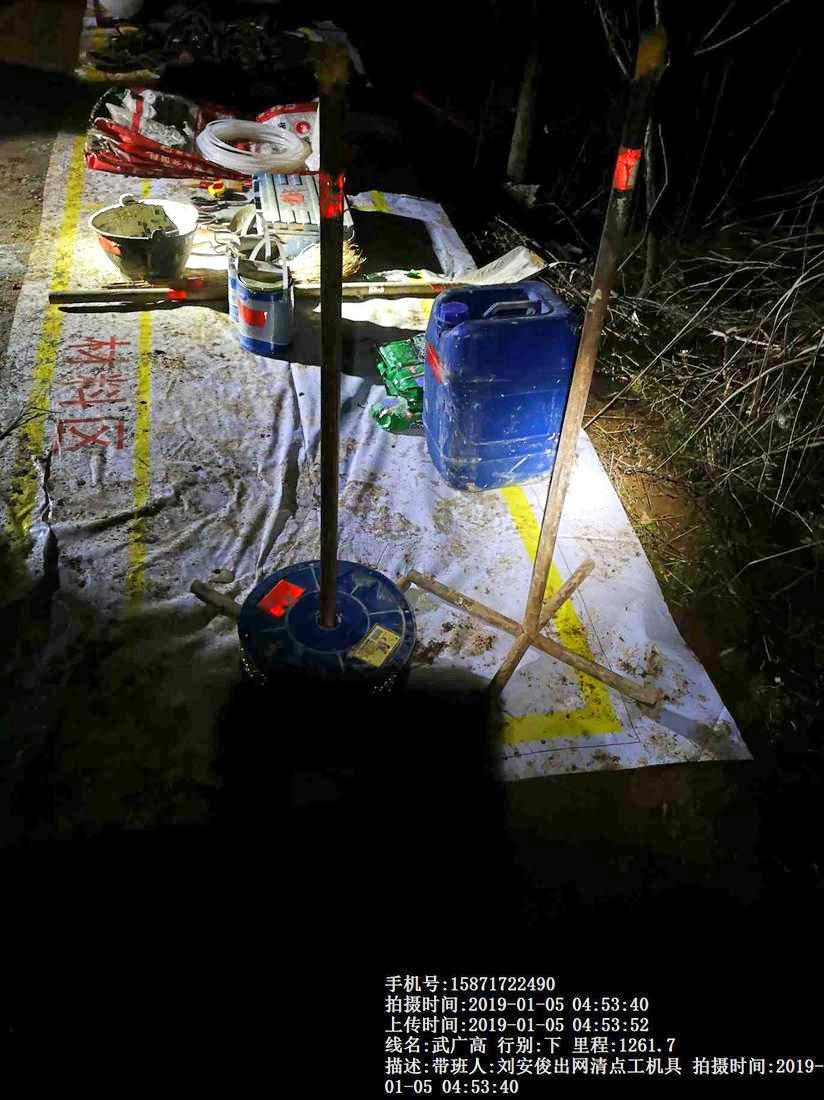SG: (196, 114, 312, 178)
SLT: (425, 287, 560, 485)
SNT: (93, 196, 196, 277)
